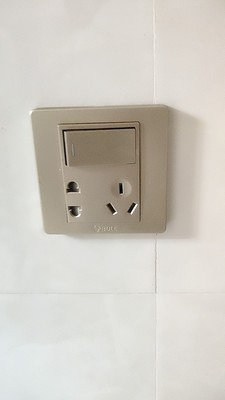switch: (58, 124, 137, 169)
